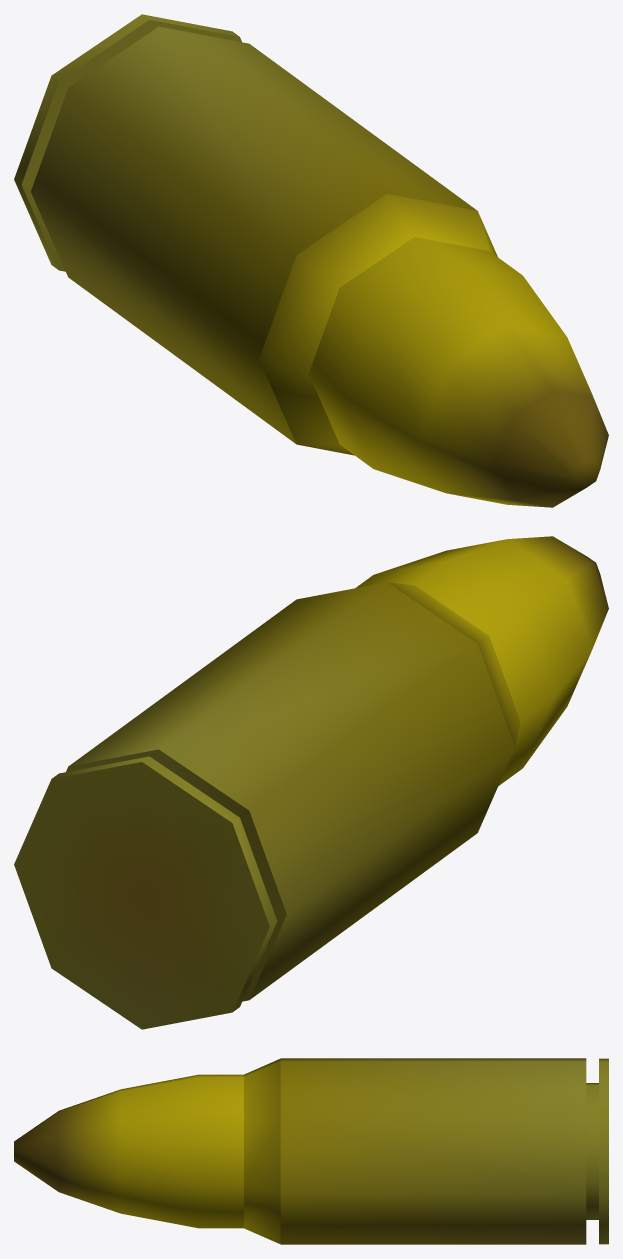
File: JoaoPedroBaiao_882555.fbx_BalaMetralhadora.fbx
3 renders of one model, top to bottom at view 1: azimuth 30°, elevation 25°; view 2: azimuth 150°, elevation 25°; view 3: azimuth 270°, elevation 25°, orthographic. The views are drawn at different scales.
Visible parts, largest first — view 1: BalaMetralhadora; view 2: BalaMetralhadora; view 3: BalaMetralhadora.
Boxes of the visible parts, left/top/right/bottom form: BalaMetralhadora: left=14, top=14, right=608, bottom=507; BalaMetralhadora: left=14, top=536, right=608, bottom=1029; BalaMetralhadora: left=14, top=1058, right=608, bottom=1244.
Size of the model in its own units: 7.19 by 7.19 by 21.61.
